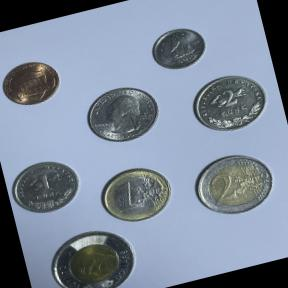1 Euro: (94, 158, 180, 230)
2 Euro: (185, 143, 285, 226)
Canda-10cent-: (145, 19, 214, 78)
Canda-2Dollar-: (41, 220, 142, 288)
Croatia-2Kune-: (183, 64, 275, 141)
US-1cent-: (0, 52, 67, 113)
US-25cent-: (78, 77, 168, 153)
